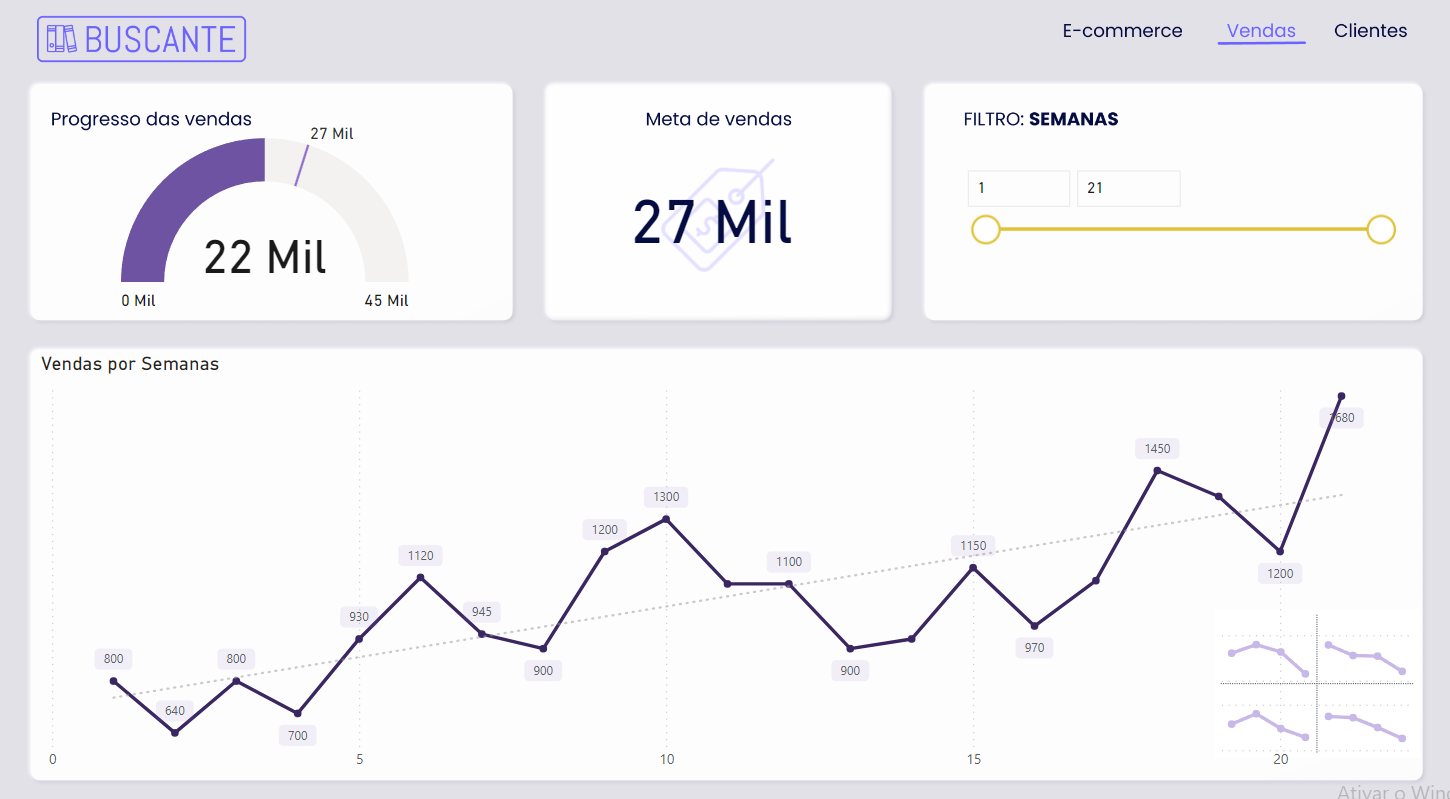

The dashboard page shown, as its layout file describes it:
{"tool":"powerbi","page":{"name":"Vendas","canvas":[1280,720],"ordinal":1},"visuals":[{"type":"gauge","fields":{"Y":["Sum(Vendas por semana.Vendas)"],"TargetValue":["Sum(Vendas por semana.Meta de vendas)"]},"box":[82.7,128.4,310.3,135.2],"z":0},{"type":"card","fields":{"Values":["Sum(Vendas por semana.Meta de vendas)"]},"box":[490.2,113.8,286,149.8],"z":1},{"type":"slicer","fields":{"Values":["Vendas por semana.Semanas"]},"box":[819,140.1,420.2,96.3],"z":2},{"type":"lineChart","title":"Vendas por Semanas","fields":{"Category":["Vendas por semana.Semanas"],"Y":["Sum(Vendas por semana.Vendas)"]},"box":[29.2,313.2,1220.7,378.4],"z":3},{"type":"actionButton","box":[929.3,16,113.9,40],"z":4},{"type":"actionButton","box":[1159.1,16,80.9,40],"z":5}]}

Visuals, with their boxes in screenshot pixels (x1, y1, x2, y2), scaled from the page's 1280x720 canvas onto the 1450x799 screenshot:
gauge - Sum(Vendas por semana.Vendas) x Sum(Vendas por semana.Meta de vendas): left=94, top=142, right=445, bottom=293
card - Sum(Vendas por semana.Meta de vendas): left=555, top=126, right=879, bottom=293
slicer - Vendas por semana.Semanas: left=928, top=155, right=1404, bottom=262
"Vendas por Semanas" lineChart: left=33, top=348, right=1416, bottom=767
actionButton: left=1053, top=18, right=1182, bottom=62
actionButton: left=1313, top=18, right=1405, bottom=62
